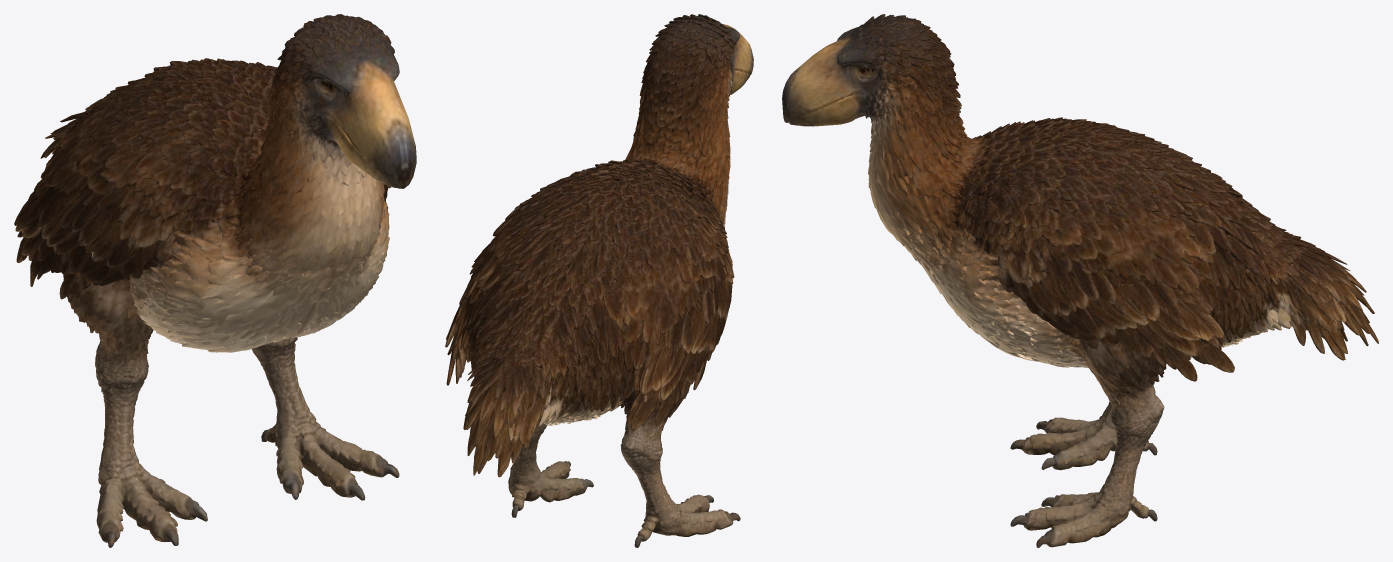
The picture shows the model from 3 angles, left to right: view 1: azimuth 30°, elevation 25°; view 2: azimuth 150°, elevation 25°; view 3: azimuth 270°, elevation 25°; orthographic projection. The views are drawn at different scales.
Visible parts, largest first — view 1: Authored orientation; view 2: Authored orientation; view 3: Authored orientation.
Boxes of the visible parts, bbox=[...] form: Authored orientation: bbox=[14, 14, 416, 547]; Authored orientation: bbox=[445, 14, 753, 547]; Authored orientation: bbox=[782, 14, 1378, 547].
Size of the model in its own units: 0.9874 by 1.73 by 2.
Materials: 1 (1 with a texture image).
